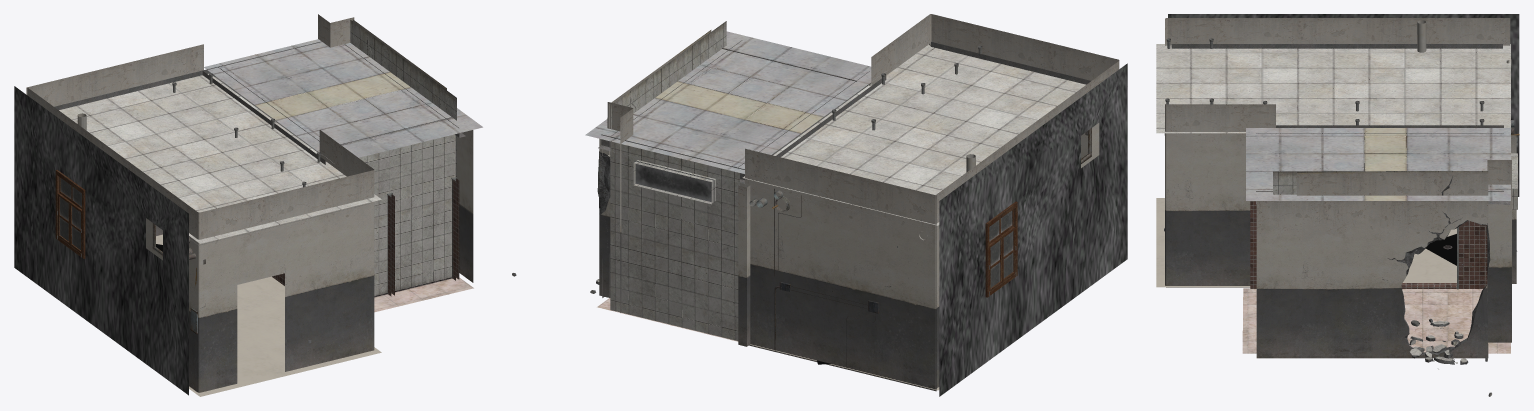
3 views of the same model, side by side, from view 1: azimuth 30°, elevation 25°; view 2: azimuth 150°, elevation 25°; view 3: azimuth 270°, elevation 25° (orthographic). The views are drawn at different scales.
Visible parts, largest first — view 1: LOD_1_Group_0_Sub_9__st2_police2fLeftWall04, LOD_1_Group_0_Sub_13__Wall_M, LOD_1_Group_0_Sub_1__st2_police2fLeftCeiling04, LOD_1_Group_0_Sub_2__st2_police2fLeftCeiling05, LOD_1_Group_0_Sub_11__st2_police2fLeftWall05, LOD_1_Group_0_Sub_6__st2_police2fLeftFloor04, LOD_1_Group_0_Sub_10__st2_police2fLeftOther01, LOD_1_Group_0_Sub_12__st4_police2fLeftWall01, LOD_1_Group_0_Sub_7__st4_police2fLeftFloor01, LOD_1_Group_0_Sub_4__st2_police2fLeftWindow01, LOD_1_Group_0_Sub_3__st2_police2fLeftWindow01_Glass, LOD_1_Group_0_Sub_14__st2_police1fLeftPipeline01; view 2: LOD_1_Group_0_Sub_9__st2_police2fLeftWall04, LOD_1_Group_0_Sub_13__Wall_M, LOD_1_Group_0_Sub_1__st2_police2fLeftCeiling04, LOD_1_Group_0_Sub_11__st2_police2fLeftWall05, LOD_1_Group_0_Sub_2__st2_police2fLeftCeiling05, LOD_1_Group_0_Sub_10__st2_police2fLeftOther01, LOD_1_Group_0_Sub_5__st2_police2fLeftOther01_Glass, LOD_1_Group_0_Sub_4__st2_police2fLeftWindow01, LOD_1_Group_0_Sub_14__st2_police1fLeftPipeline01, LOD_1_Group_0_Sub_3__st2_police2fLeftWindow01_Glass; view 3: LOD_1_Group_0_Sub_9__st2_police2fLeftWall04, LOD_1_Group_0_Sub_1__st2_police2fLeftCeiling04, LOD_1_Group_0_Sub_2__st2_police2fLeftCeiling05, LOD_1_Group_0_Sub_7__st4_police2fLeftFloor01, LOD_1_Group_0_Sub_10__st2_police2fLeftOther01, LOD_1_Group_0_Sub_12__st4_police2fLeftWall01, LOD_1_Group_0_Sub_13__Wall_M, LOD_1_Group_0_Sub_6__st2_police2fLeftFloor04, LOD_1_Group_0_Sub_11__st2_police2fLeftWall05, LOD_1_Group_0_Sub_8__st2_FloorWater01_Mat, LOD_1_Group_0_Sub_14__st2_police1fLeftPipeline01, LOD_1_Group_0_Sub_15__st2_VinylPipeIronDuct_A.
Boxes of the visible parts, x1,y1,x2,y2 form: LOD_1_Group_0_Sub_9__st2_police2fLeftWall04: (26,14,473,392); LOD_1_Group_0_Sub_13__Wall_M: (14,86,188,395); LOD_1_Group_0_Sub_1__st2_police2fLeftCeiling04: (59,73,381,243); LOD_1_Group_0_Sub_2__st2_police2fLeftCeiling05: (204,39,482,162); LOD_1_Group_0_Sub_11__st2_police2fLeftWall05: (350,20,456,295); LOD_1_Group_0_Sub_6__st2_police2fLeftFloor04: (156,234,381,396); LOD_1_Group_0_Sub_10__st2_police2fLeftOther01: (54,41,465,297); LOD_1_Group_0_Sub_12__st4_police2fLeftWall01: (272,178,459,296); LOD_1_Group_0_Sub_7__st4_police2fLeftFloor01: (374,277,473,312); LOD_1_Group_0_Sub_4__st2_police2fLeftWindow01: (55,170,85,258); LOD_1_Group_0_Sub_3__st2_police2fLeftWindow01_Glass: (59,178,81,249); LOD_1_Group_0_Sub_14__st2_police1fLeftPipeline01: (152,73,320,285); LOD_1_Group_0_Sub_9__st2_police2fLeftWall04: (599,14,1119,391); LOD_1_Group_0_Sub_13__Wall_M: (939,63,1127,396); LOD_1_Group_0_Sub_1__st2_police2fLeftCeiling04: (742,44,1085,225); LOD_1_Group_0_Sub_11__st2_police2fLeftWall05: (512,21,870,340); LOD_1_Group_0_Sub_2__st2_police2fLeftCeiling05: (585,31,886,173); LOD_1_Group_0_Sub_10__st2_police2fLeftOther01: (513,40,1090,293); LOD_1_Group_0_Sub_5__st2_police2fLeftOther01_Glass: (634,160,713,202); LOD_1_Group_0_Sub_4__st2_police2fLeftWindow01: (985,201,1017,297); LOD_1_Group_0_Sub_14__st2_police1fLeftPipeline01: (749,46,1091,368); LOD_1_Group_0_Sub_3__st2_police2fLeftWindow01_Glass: (989,210,1013,287); LOD_1_Group_0_Sub_9__st2_police2fLeftWall04: (1165,18,1516,358); LOD_1_Group_0_Sub_1__st2_police2fLeftCeiling04: (1156,44,1510,133); LOD_1_Group_0_Sub_2__st2_police2fLeftCeiling05: (1246,128,1510,200); LOD_1_Group_0_Sub_7__st4_police2fLeftFloor01: (1242,288,1510,353); LOD_1_Group_0_Sub_10__st2_police2fLeftOther01: (1164,44,1510,396); LOD_1_Group_0_Sub_12__st4_police2fLeftWall01: (1250,201,1487,288); LOD_1_Group_0_Sub_13__Wall_M: (1168,14,1519,196); LOD_1_Group_0_Sub_6__st2_police2fLeftFloor04: (1156,198,1456,287); LOD_1_Group_0_Sub_11__st2_police2fLeftWall05: (1273,153,1517,396); LOD_1_Group_0_Sub_8__st2_FloorWater01_Mat: (1426,234,1456,265); LOD_1_Group_0_Sub_14__st2_police1fLeftPipeline01: (1165,38,1519,148); LOD_1_Group_0_Sub_15__st2_VinylPipeIronDuct_A: (1164,20,1511,231).
Size of the model in its own units: 9.62 by 4.19 by 7.27.
